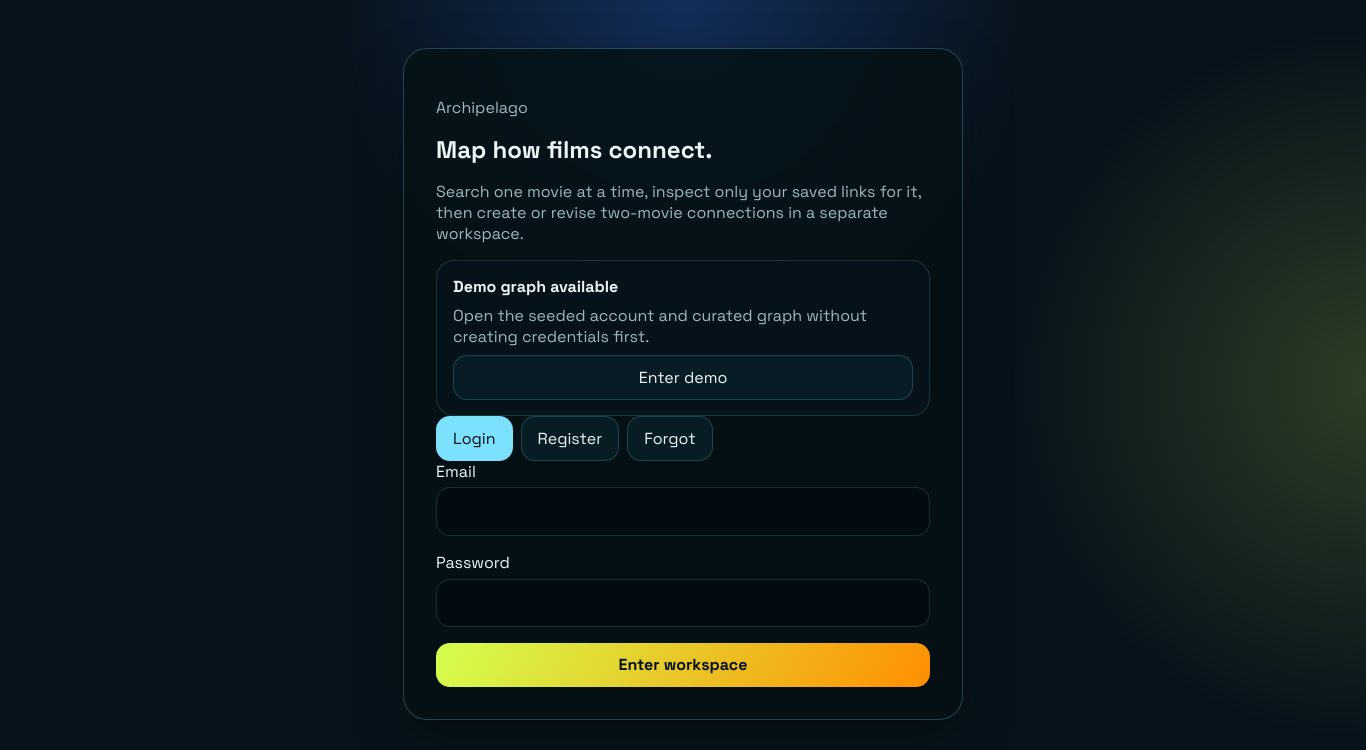
Test: App › shows login errors inline when credentials are invalid
Expected: the heading "Map how films connect." is shown, [436,134,712,165]
Type "missing@example.com" into the field labelled "Email" at (683, 512), box [436,488,930,536]
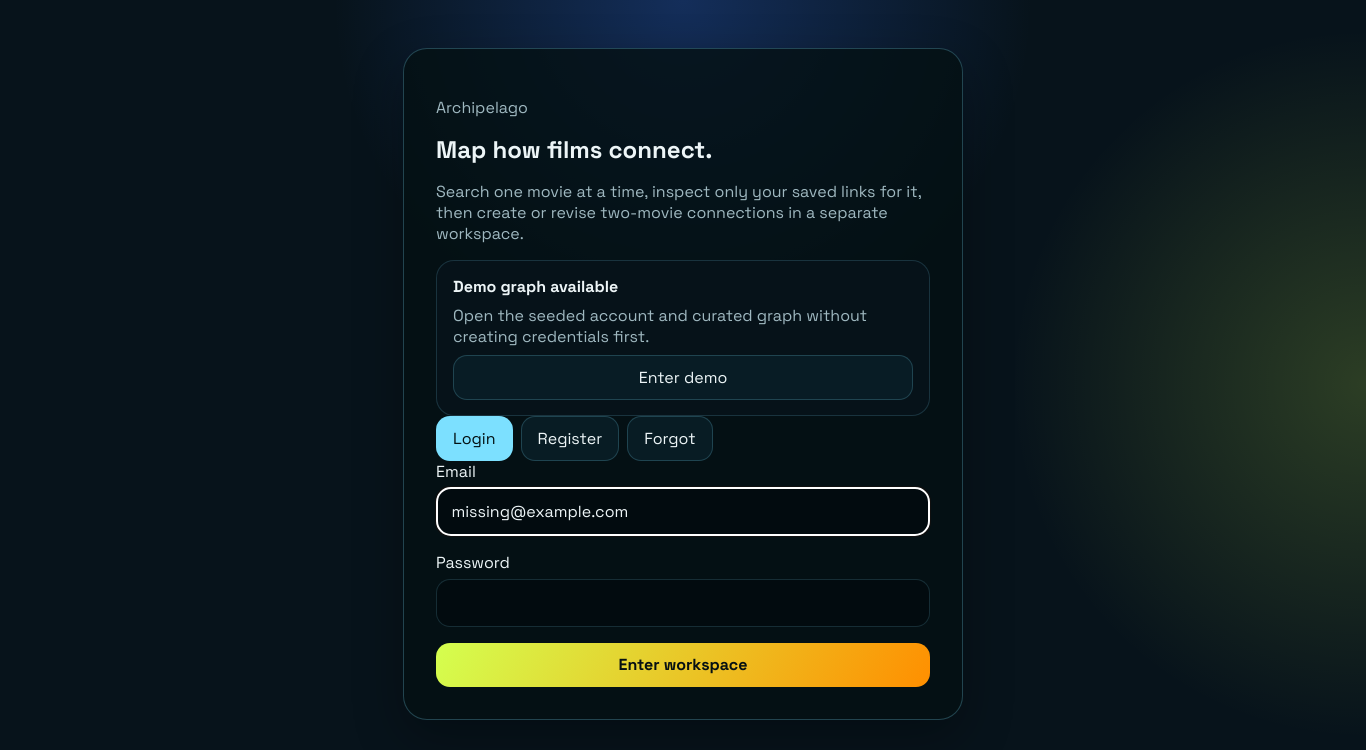
Type "wrongpass" into the password field labelled "Password" at (683, 603), box [436,579,930,627]
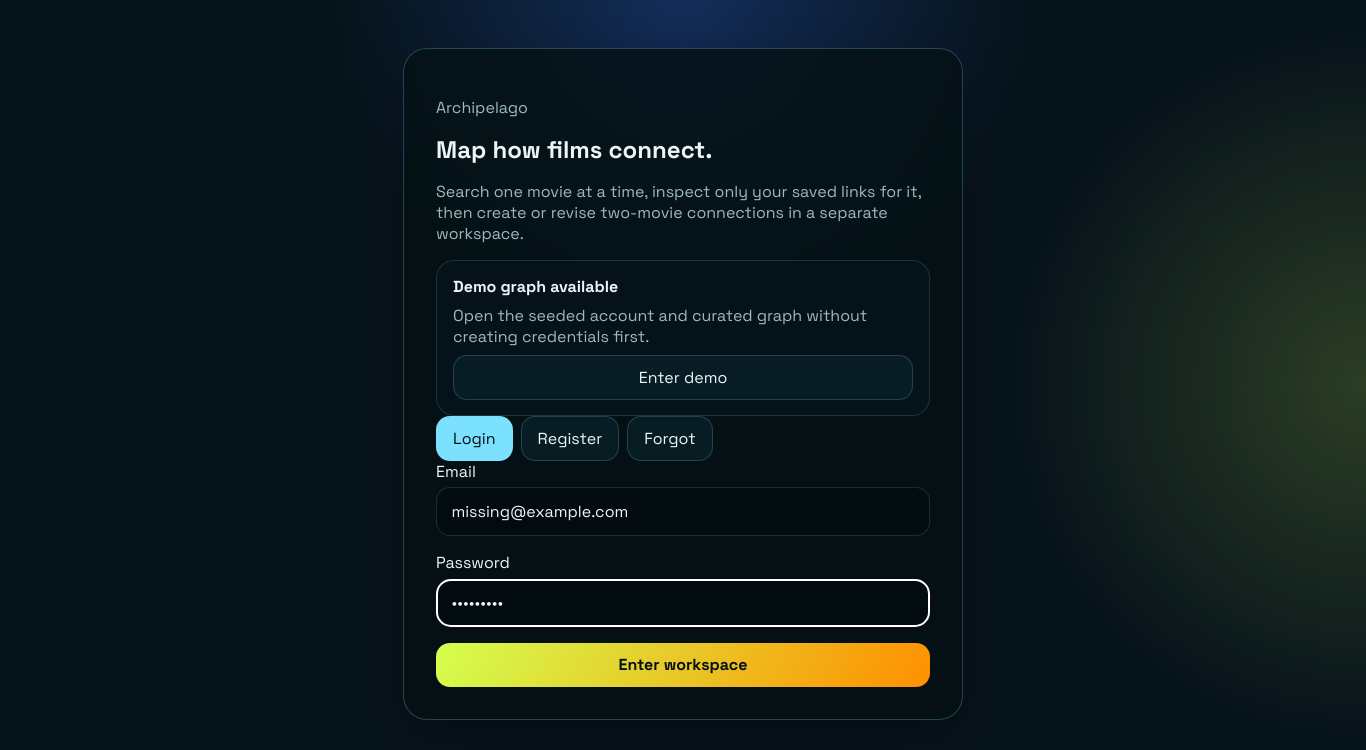
Click the button "Enter workspace" at (683, 665), box [436,643,930,687]
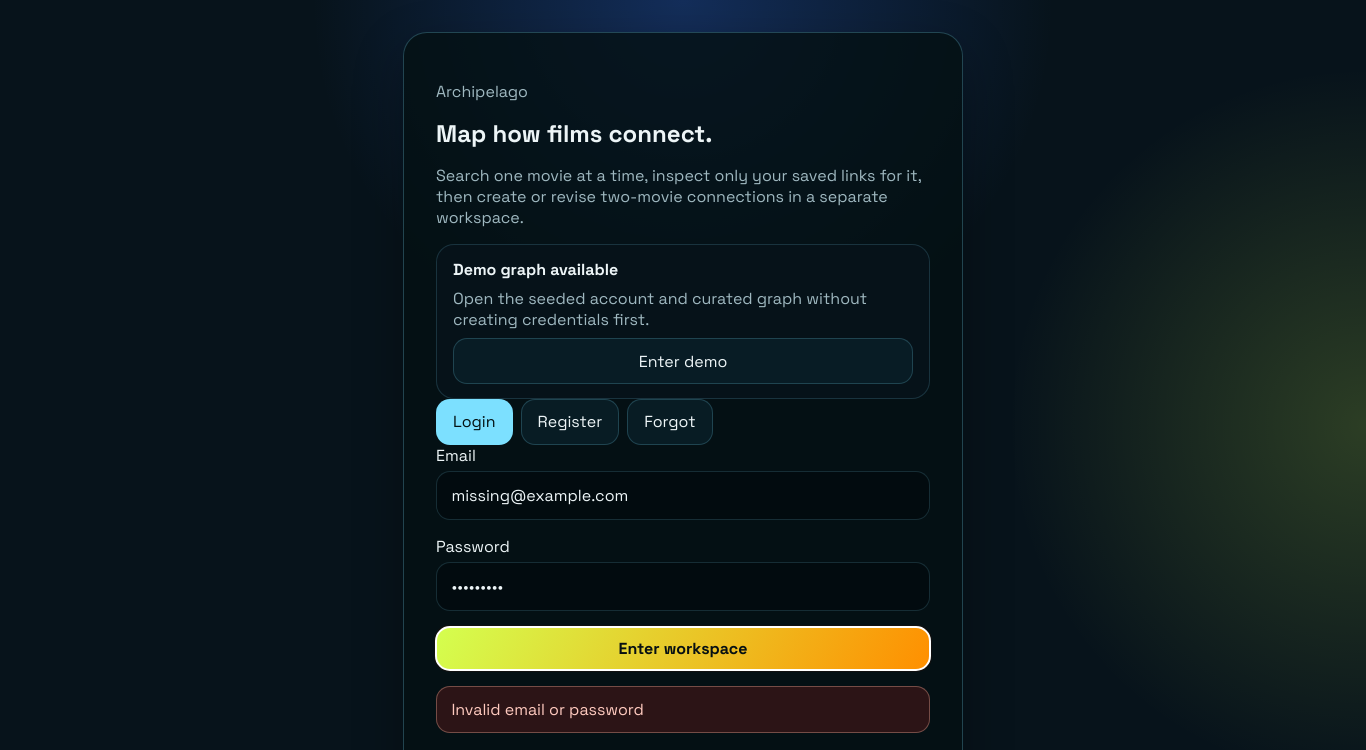
Now the message reads "Invalid email or password", box [451,699,644,720]
